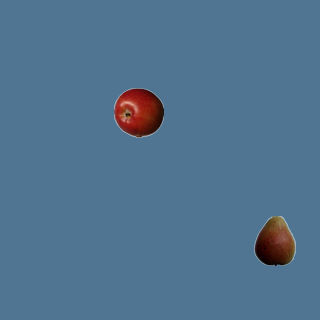Apple Braeburn: (113, 87, 163, 137)
Pear Forelle: (249, 215, 299, 265)
